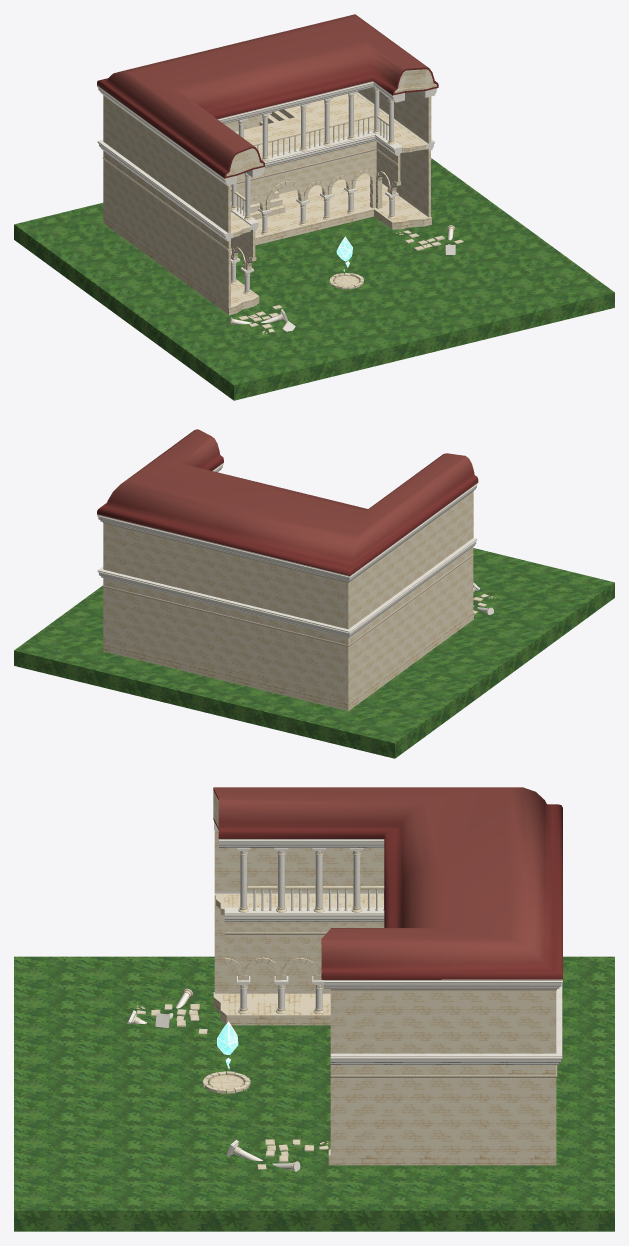
File: env_temple.glb
3 views of the same model, one above another, from view 1: azimuth 30°, elevation 25°; view 2: azimuth 150°, elevation 25°; view 3: azimuth 270°, elevation 25° (orthographic). The views are drawn at different scales.
Visible parts, largest first — view 1: Temple_ruins; view 2: Temple_ruins; view 3: Temple_ruins.
Part boxes in pixels (box(x1,y1,x2,y2)): Temple_ruins: box(14, 14, 614, 400); Temple_ruins: box(14, 429, 614, 758); Temple_ruins: box(14, 787, 614, 1231).
Size of the model in its own units: 0.7261 by 0.3217 by 0.7261.
Materials: 7 (7 with a texture image).
